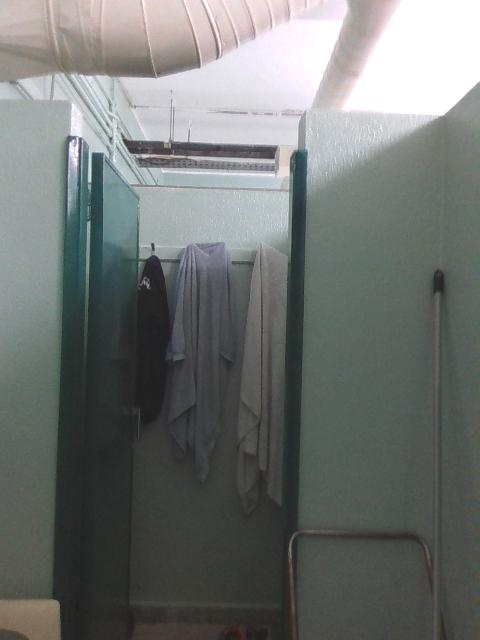open_door: (53, 95, 306, 639)
